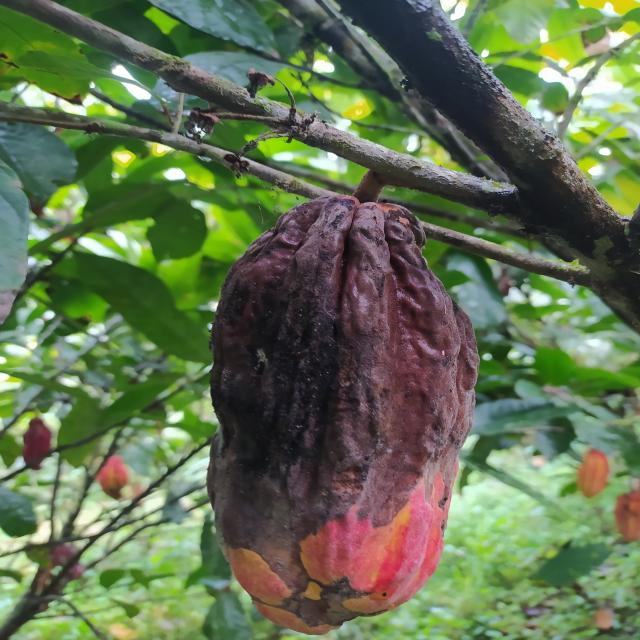Fitoftora: (208, 189, 477, 635)
